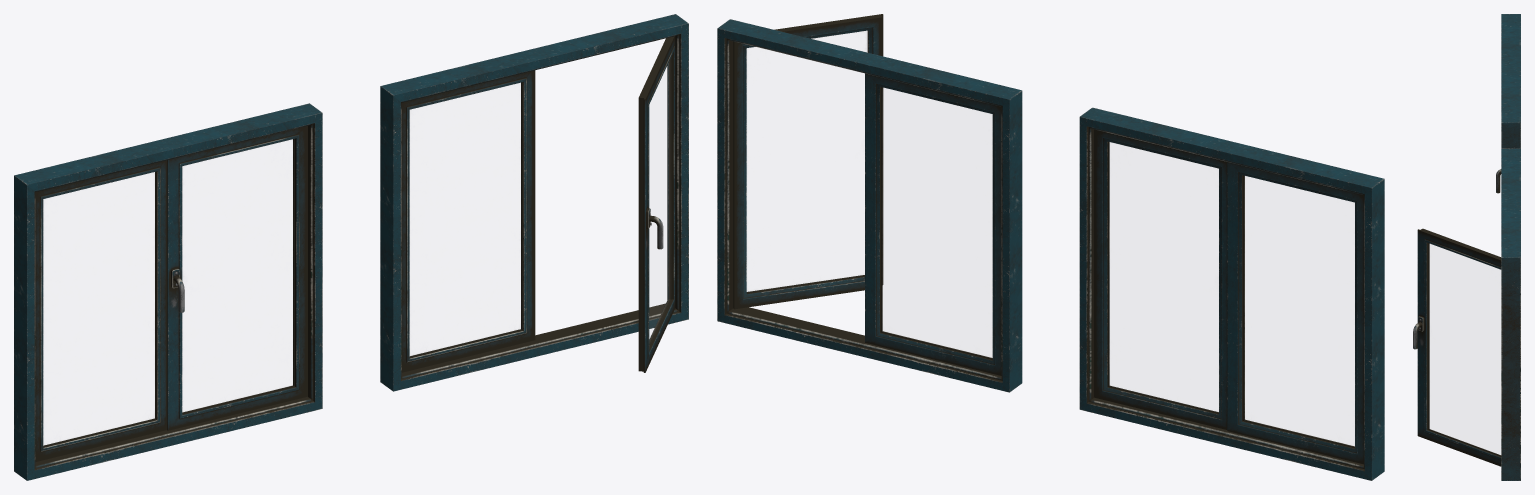
The model's file is window2.glb.
The picture shows the model from 3 angles, left to right: view 1: azimuth 30°, elevation 25°; view 2: azimuth 150°, elevation 25°; view 3: azimuth 270°, elevation 25°; orthographic projection. The views are drawn at different scales.
Visible parts, largest first — view 1: f, f_2, w_1_2, w_2, w_2_2, w_1; view 2: f, f_2, w_2, w_2_2, w_1_2, w_1; view 3: f, w_1, f_2.
Boxes of the visible parts, <box> form: f: <box>380,14,688,391</box>; f_2: <box>14,103,322,480</box>; w_1_2: <box>167,126,307,430</box>; w_2: <box>401,70,535,372</box>; w_2_2: <box>35,160,167,461</box>; w_1: <box>638,36,675,372</box>; f: <box>717,19,1022,392</box>; f_2: <box>1079,107,1384,480</box>; w_2: <box>865,73,1001,375</box>; w_2_2: <box>1227,162,1363,464</box>; w_1_2: <box>1094,129,1227,429</box>; w_1: <box>733,14,883,309</box>; f: <box>1501,148,1520,480</box>; w_1: <box>1413,228,1501,466</box>; f_2: <box>1501,14,1520,148</box>.
Size of the model in its own units: 5.31 by 2.27 by 0.9936.
Materials: 2 (2 with a texture image).
